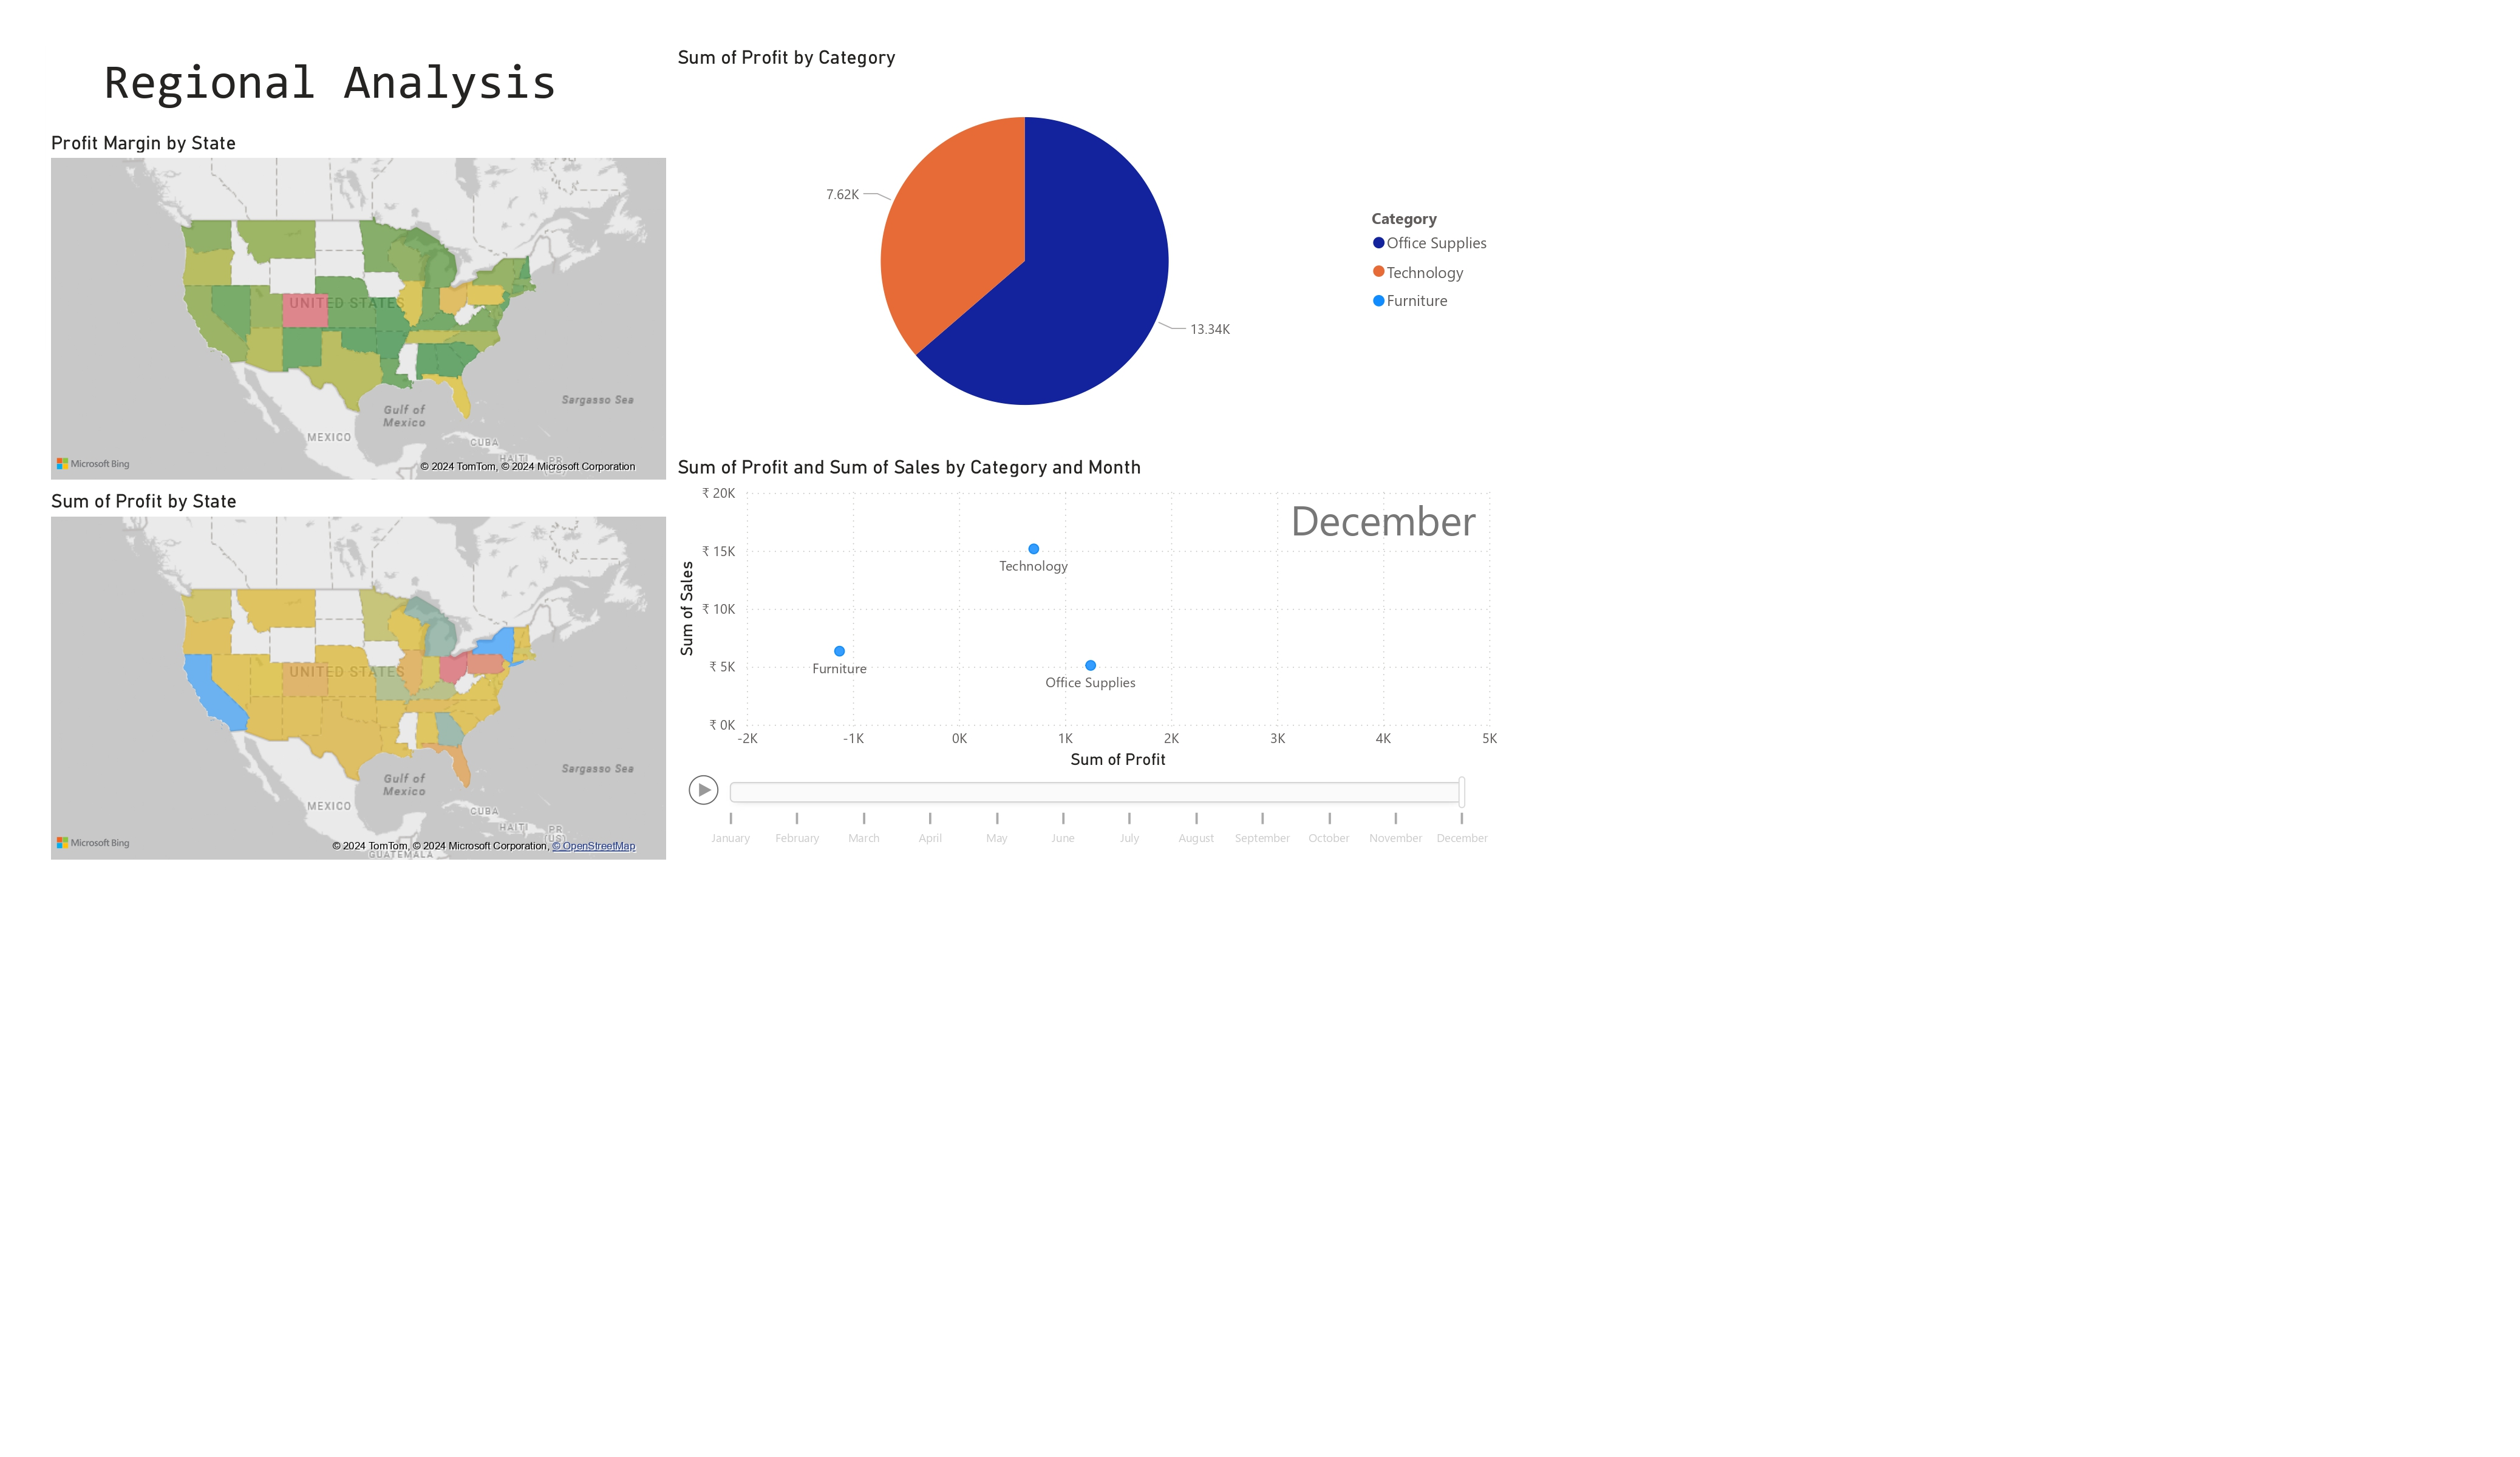

The dashboard page shown, as its layout file describes it:
{"tool":"powerbi","page":{"name":"Regional Analysis","canvas":[1280,720],"ordinal":3},"visuals":[{"type":"filledMap","fields":{"Category":["dataset.State"]},"box":[0,390,550,330],"z":0},{"type":"pieChart","fields":{"Category":["dataset.Category"],"Y":["Sum(dataset.Profit)"]},"box":[550,0,730,360],"z":1000},{"type":"filledMap","fields":{"Category":["dataset.State"]},"box":[0,75,550,311.7],"z":2000},{"type":"scatterChart","fields":{"Category":["dataset.Category"],"X":["Sum(dataset.Profit)"],"Y":["Sum(dataset.Sales)"],"Play":["dataset.Date.Variation.Date Hierarchy.Month"]},"box":[550,360,730,360],"z":3000},{"type":"textbox","box":[0,1.7,500,60],"z":3001}]}

Visuals, with their boxes on the page's 1280x720 design canvas (x1, y1, x2, y2). These are canvas units, not pixel positions in the 2520x1457 screenshot, which may show the page scaled, cropped or inside an application window:
filledMap - dataset.State: select_region(0, 390, 550, 720)
pieChart - dataset.Category x Sum(dataset.Profit): select_region(550, 0, 1280, 360)
filledMap - dataset.State: select_region(0, 75, 550, 387)
scatterChart - dataset.Category x Sum(dataset.Profit): select_region(550, 360, 1280, 720)
textbox: select_region(0, 2, 500, 62)
